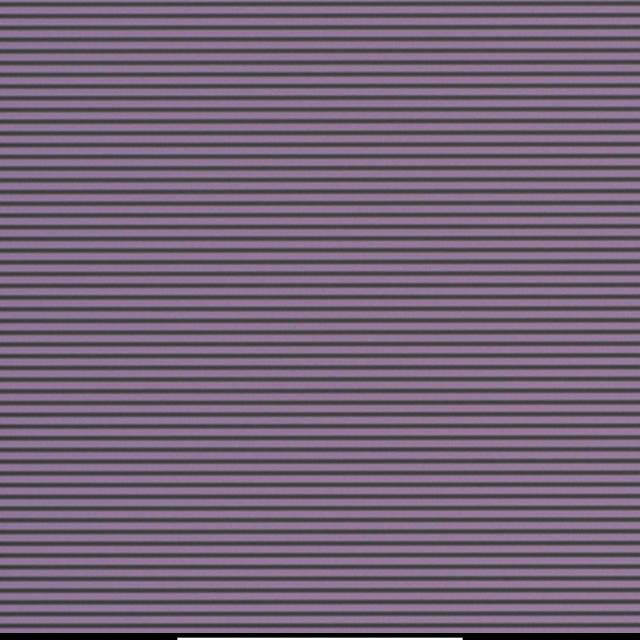nonvisual: (287, 321, 298, 332)
